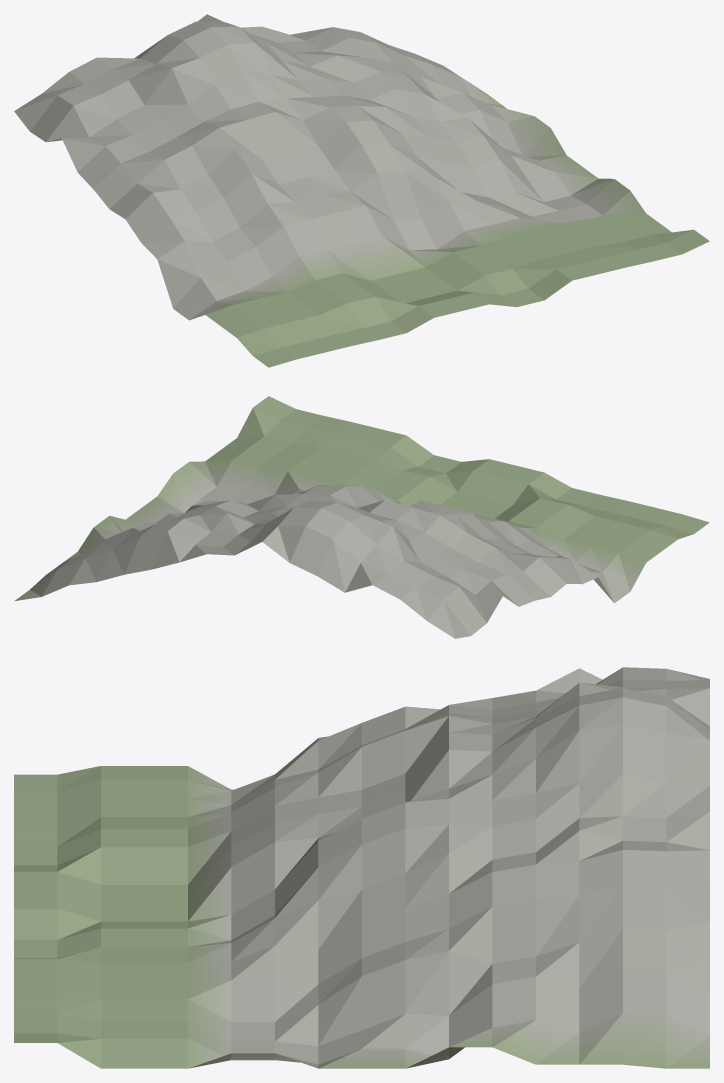
3 views of the same model, one above another, from view 1: azimuth 30°, elevation 25°; view 2: azimuth 150°, elevation 25°; view 3: azimuth 270°, elevation 25° (orthographic). The views are drawn at different scales.
Size of the model in its own units: 32 by 10.28 by 32.
